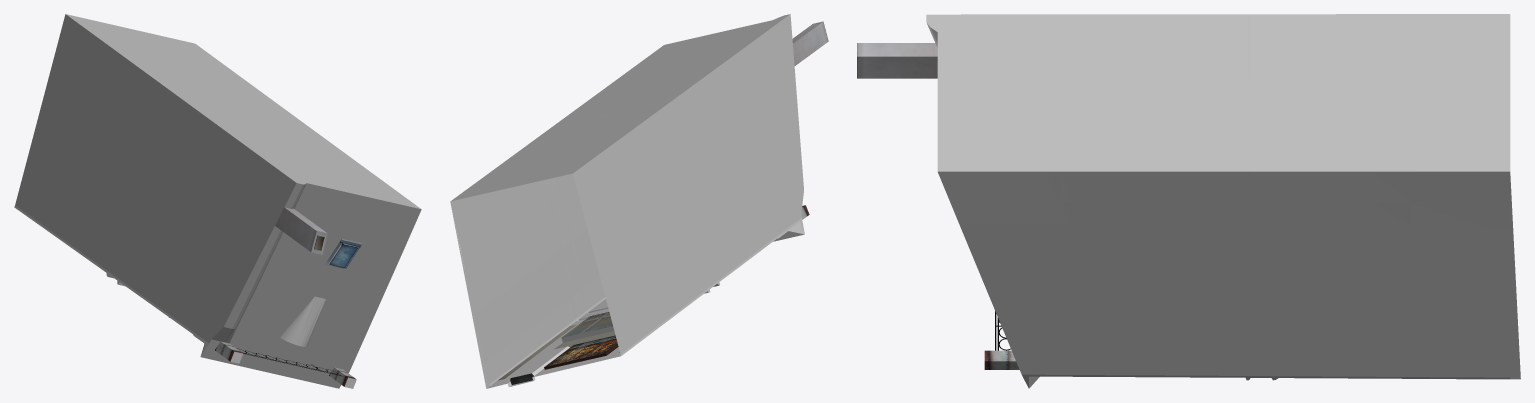
The model's file is Vanaturu_kael_5.obj.
3 renders of one model, left to right at view 1: azimuth 30°, elevation 25°; view 2: azimuth 150°, elevation 25°; view 3: azimuth 270°, elevation 25°, orthographic. The views are drawn at different scales.
Parts seen in each view (by area): view 1: vanaturukael_Cube.001; view 2: vanaturukael_Cube.001; view 3: vanaturukael_Cube.001.
Part boxes in pixels (x1,y1,x2,y2): vanaturukael_Cube.001: (14, 14, 421, 388); vanaturukael_Cube.001: (450, 14, 828, 388); vanaturukael_Cube.001: (857, 14, 1520, 388).
Size of the model in its own units: 7.68 by 10.14 by 18.85.
